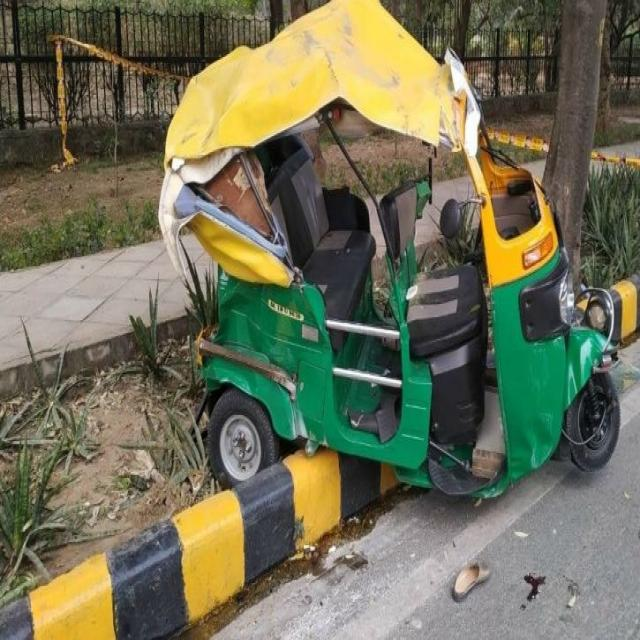accident: (159, 0, 620, 496)
